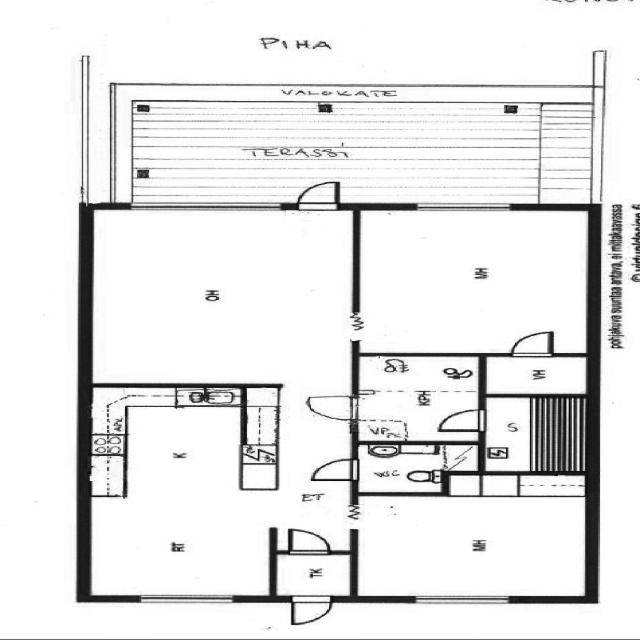door: (473, 394, 592, 474), (298, 390, 371, 426), (500, 326, 562, 360), (428, 406, 494, 435), (283, 593, 336, 629), (276, 525, 334, 557), (304, 456, 366, 484), (291, 178, 346, 209)
window: (121, 199, 289, 216), (125, 589, 246, 609), (402, 590, 521, 609), (402, 198, 522, 215)
zone: (85, 205, 356, 385), (350, 206, 594, 355), (349, 477, 594, 601), (76, 486, 271, 598), (81, 388, 252, 499), (351, 352, 484, 443), (477, 394, 593, 474), (354, 441, 465, 495)
